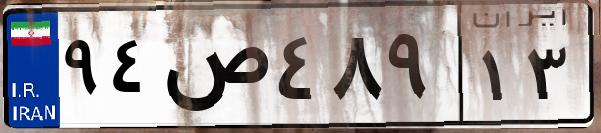1: (475, 38, 525, 113)
3: (525, 38, 570, 115)
4: (270, 28, 330, 110), (110, 28, 158, 98)
8: (330, 28, 385, 110)
9: (385, 28, 445, 110), (57, 26, 110, 100)
ص: (158, 20, 270, 120)
